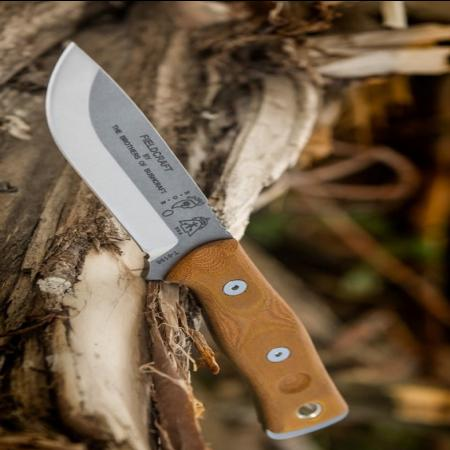long weapon: (31, 34, 248, 288)
